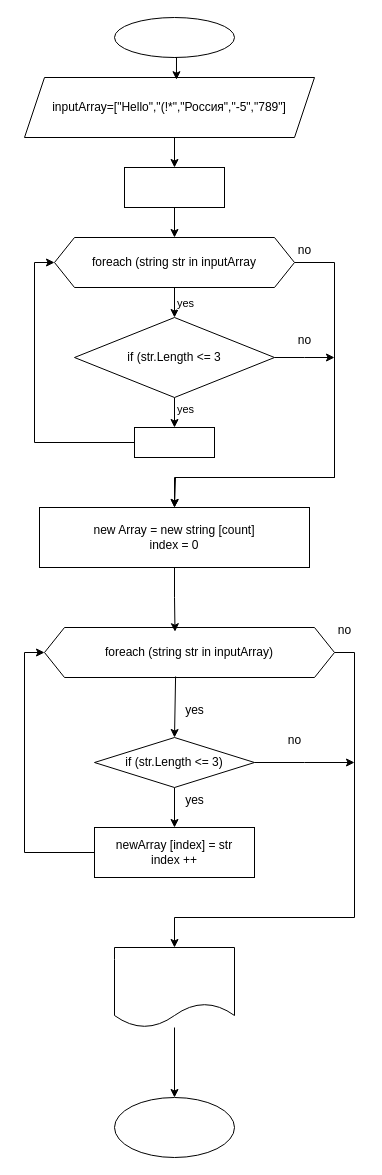
The diagram is 382 pixels wide and 1175 high, and some of its shapes have lost their labels. Each missing label, with the box of its shape:
newArray: (114, 946, 234, 1028)
start: (114, 16, 234, 58)
сount ++: (134, 426, 214, 458)
сount=0: (124, 166, 224, 208)
